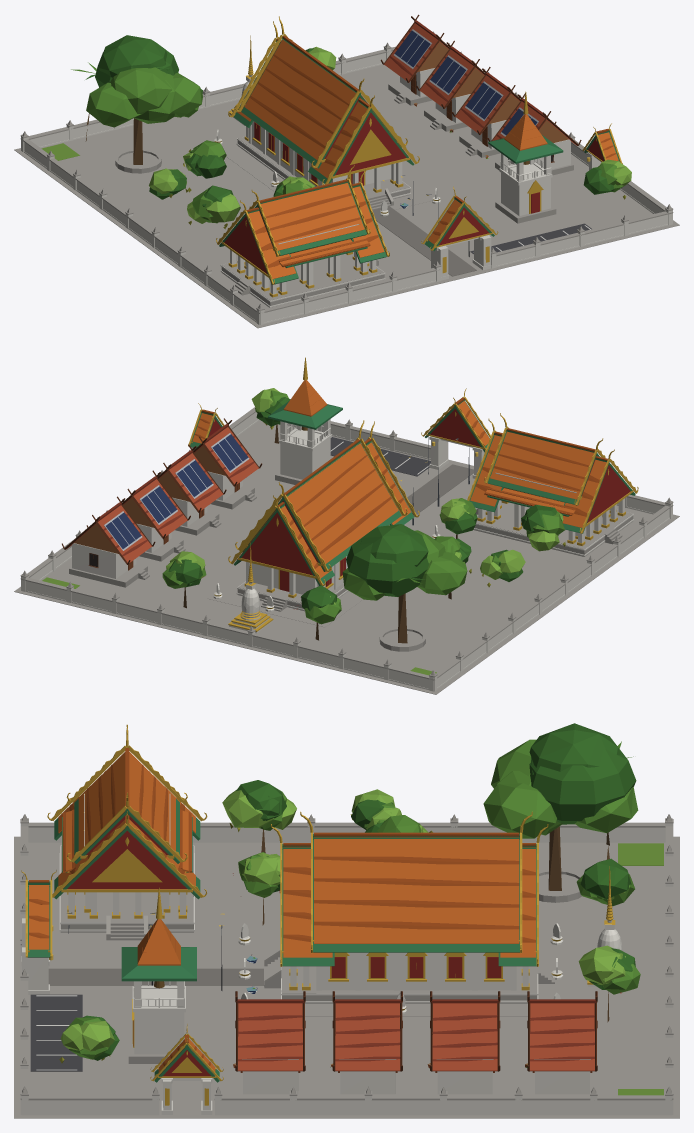
File: temple_2.glb
The picture shows the model from 3 angles, top to bottom: view 1: azimuth 30°, elevation 25°; view 2: azimuth 150°, elevation 25°; view 3: azimuth 270°, elevation 25°; orthographic projection. The views are drawn at different scales.
Parts seen in each view (by area): view 1: body; view 2: body; view 3: body.
Part boxes in pixels (x1=…): body: x1=14, y1=14, x2=679, y2=328; body: x1=14, y1=357, x2=679, y2=694; body: x1=14, y1=723, x2=679, y2=1118.
Size of the model in its own units: 47.9 by 13.47 by 47.9.
